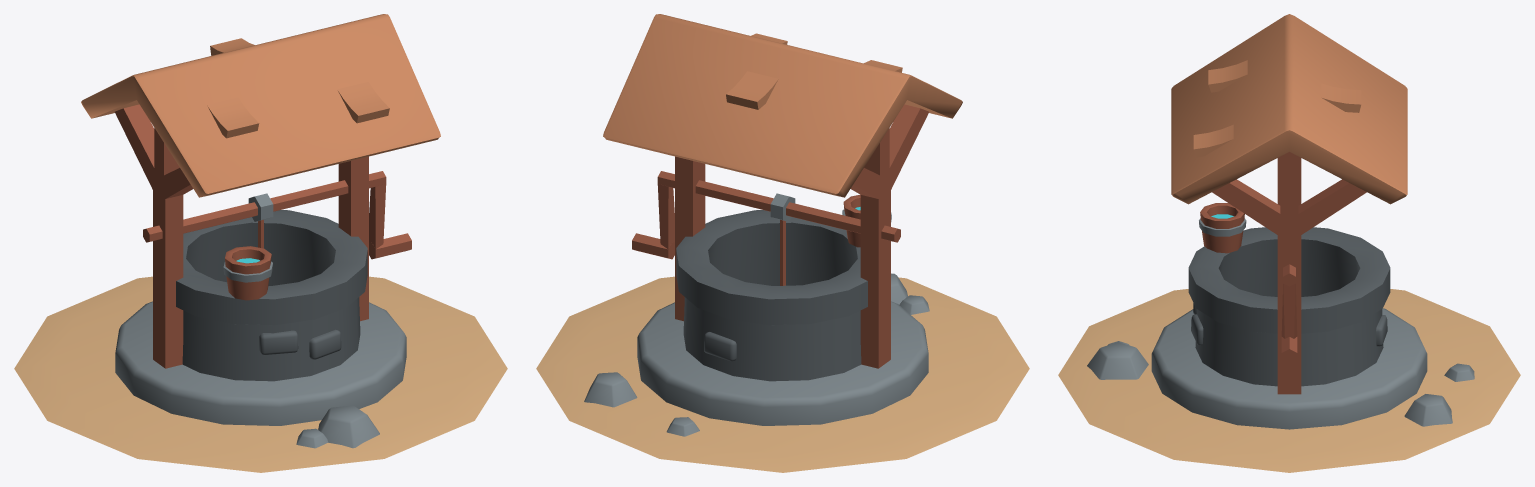
File: well.glb
3 renders of one model, left to right at view 1: azimuth 30°, elevation 25°; view 2: azimuth 150°, elevation 25°; view 3: azimuth 270°, elevation 25°, orthographic. The views are drawn at different scales.
Parts seen in each view (by area): view 1: well; view 2: well; view 3: well.
Part boxes in pixels (x1=…): well: x1=14, y1=14, x2=507, y2=472; well: x1=536, y1=14, x2=1029, y2=472; well: x1=1058, y1=14, x2=1520, y2=472.
Bounding box in the file's own units: 1.02 × 0.7366 × 1.02.
